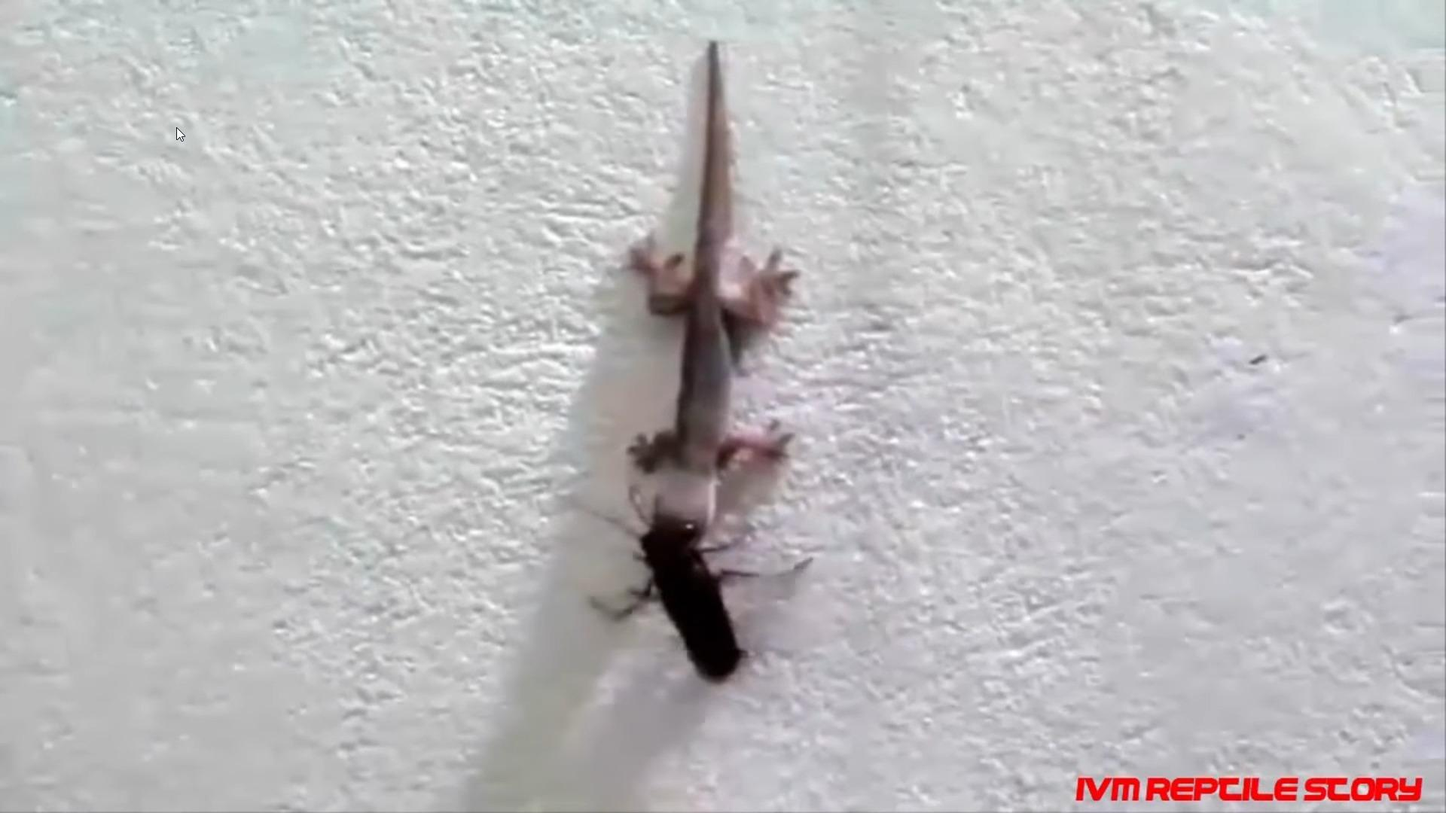cockroach: (613, 520, 749, 684)
lizard: (632, 99, 784, 527)
